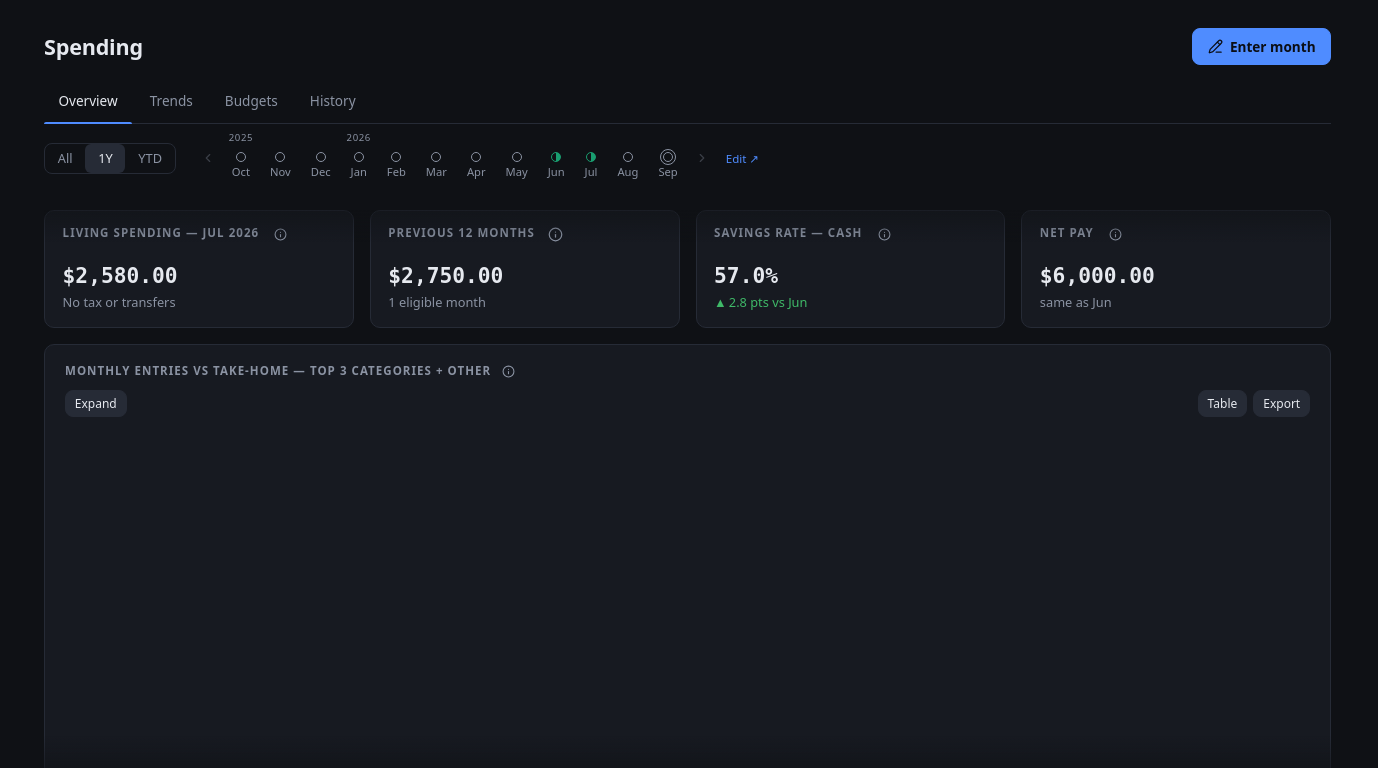
Test: SpendingPage — the grammar mounts (charts C3) › pairs the two Trends charts at one height, the card without controls reserving that row
The width and height of the screenshot is (1378, 768).
Click the tab "Trends" at (171, 102), box [135,81,207,123]
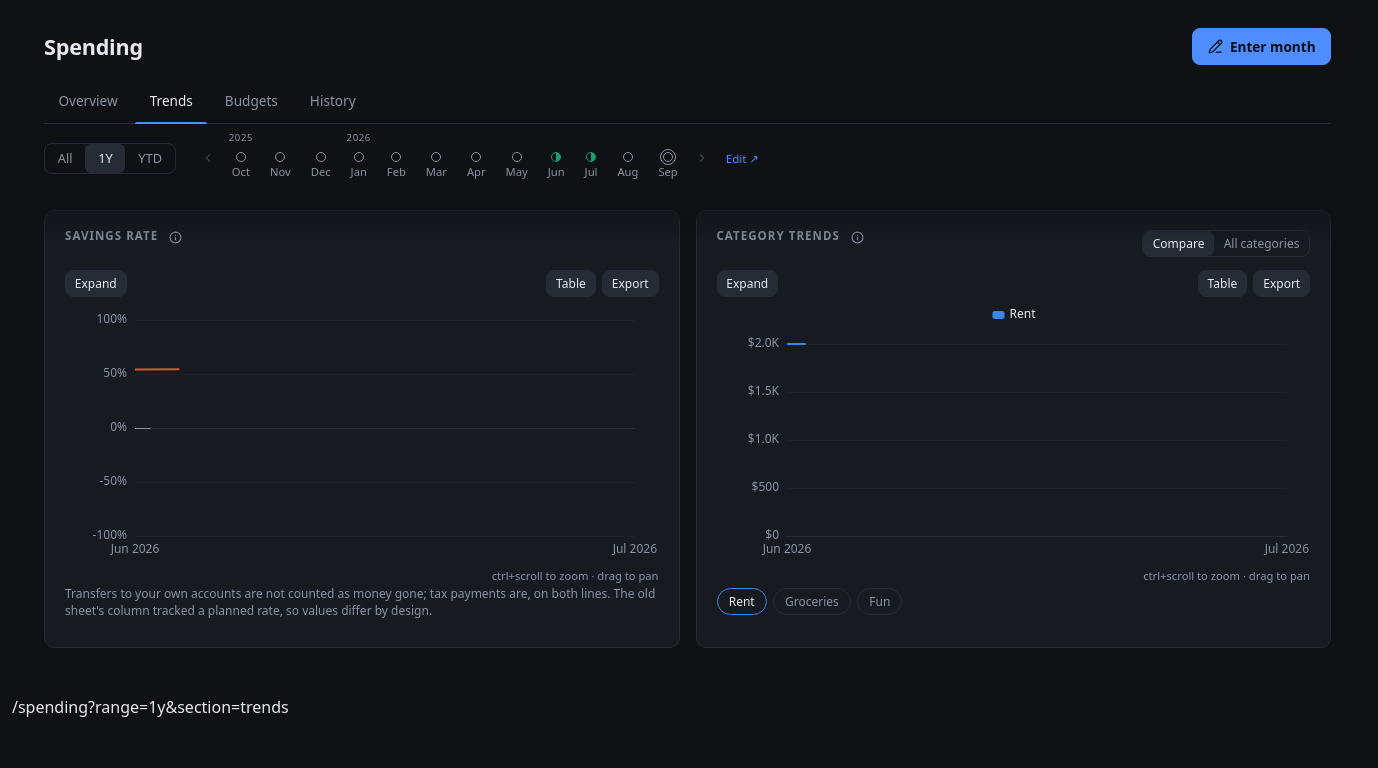
Expected: the element with class "chart-card-controls" is shown, [1142,228,1310,258]
Expected: the heading "Category trends" is shown, [716,228,870,244]
